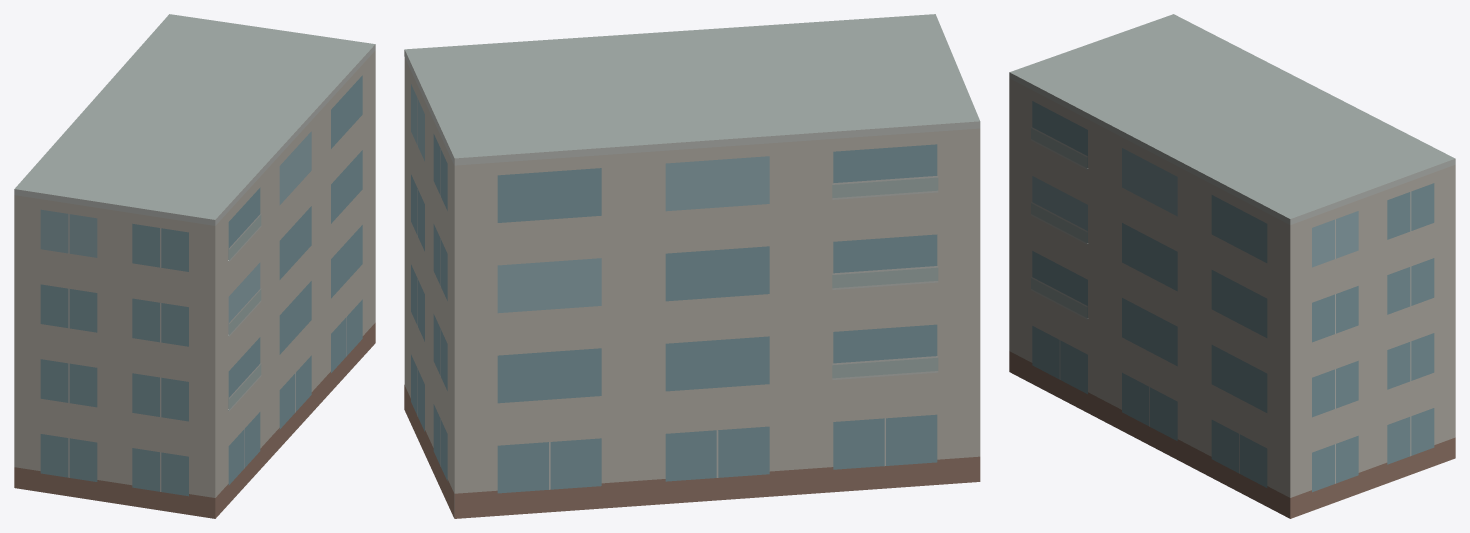
Rendered from survey-upis-32596873.glb.
3 renders of one model, left to right at view 1: azimuth 30°, elevation 25°; view 2: azimuth 150°, elevation 25°; view 3: azimuth 270°, elevation 25°, orthographic. The views are drawn at different scales.
Visible parts, largest first — view 1: survey-upis-32596873.tmp; view 2: survey-upis-32596873.tmp; view 3: survey-upis-32596873.tmp.
Part boxes in pixels (x1,y1,x2,y2): survey-upis-32596873.tmp: (14,14,375,518); survey-upis-32596873.tmp: (404,14,980,518); survey-upis-32596873.tmp: (1009,14,1455,518).
Bounding box in the file's own units: 17.92 × 12.2 × 16.47.
